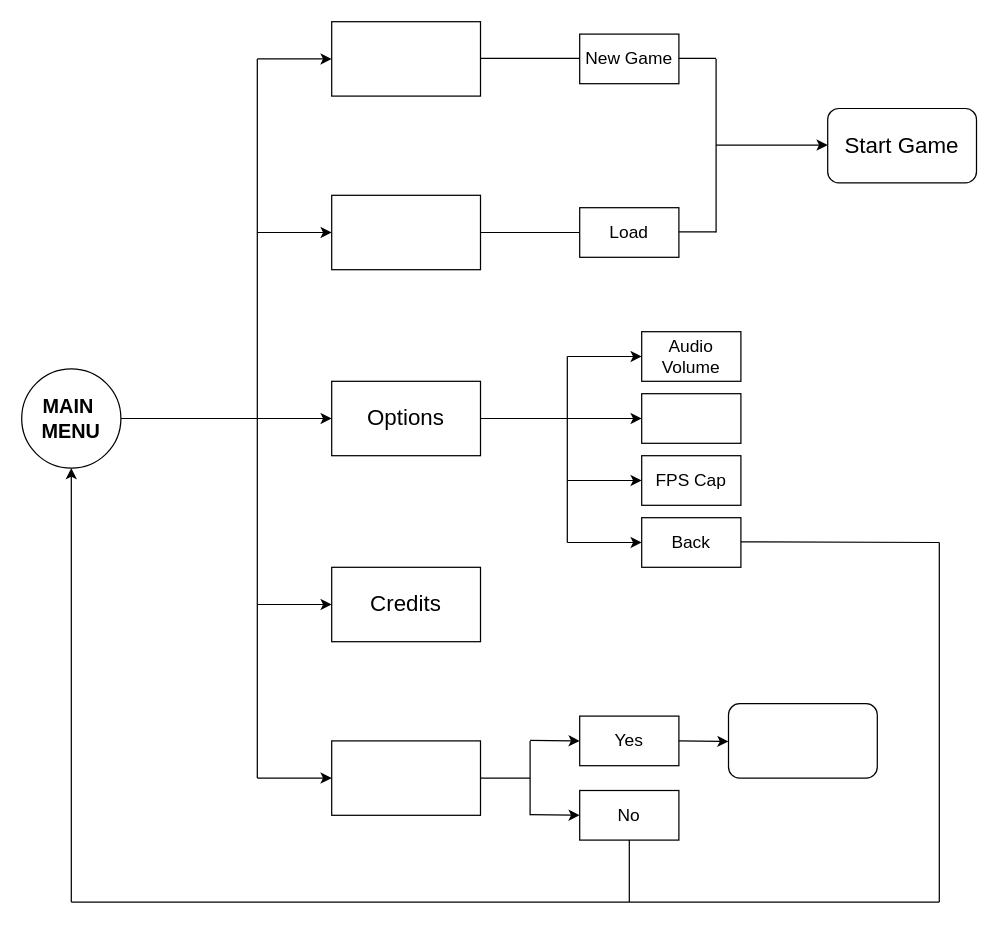
Some shapes in this 998 by 934 pixel diagram are drawn without their labels. The box of each missing label's shape, as (x1, y1, x2, y2) in pixels:
Close Aplication: (727, 702, 877, 778)
Exit Game: (330, 740, 480, 815)
FX Volume: (640, 392, 741, 443)
Load Game: (330, 194, 480, 270)
Play: (330, 20, 480, 96)
